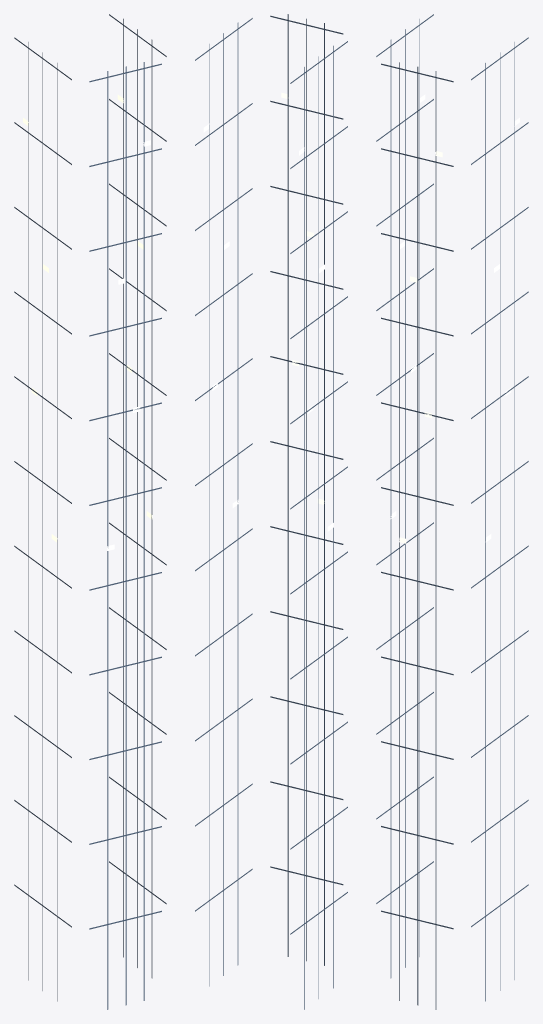
File: SM_MM_N04_Facade.fbx
3 views of the same model, side by side, from view 1: azimuth 30°, elevation 25°; view 2: azimuth 150°, elevation 25°; view 3: azimuth 330°, elevation 25° (orthographic).
Parts seen in each view (by area): view 1: SM_MM_N04_Facade; view 2: SM_MM_N04_Facade; view 3: SM_MM_N04_Facade.
Boxes of the visible parts, <box> form: SM_MM_N04_Facade: <box>14,14,166,1009</box>; SM_MM_N04_Facade: <box>195,14,347,1009</box>; SM_MM_N04_Facade: <box>376,14,528,1009</box>.
Size of the model in its own units: 14.05 by 16.42 by 133.
